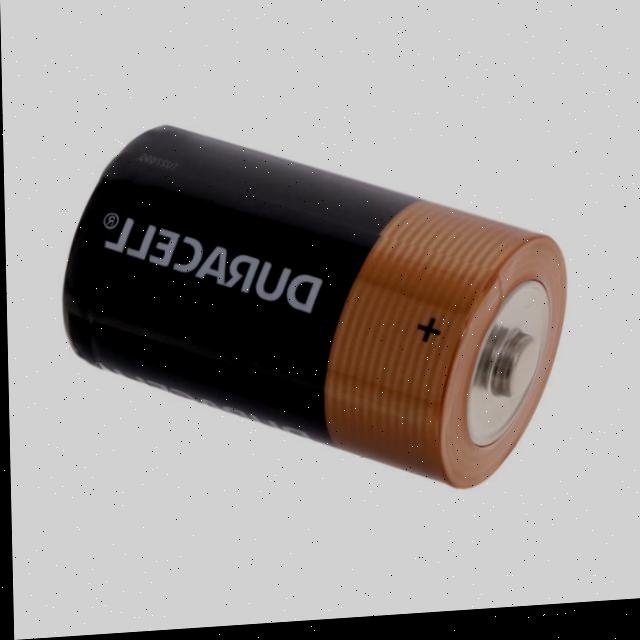battery: (54, 98, 579, 521)
